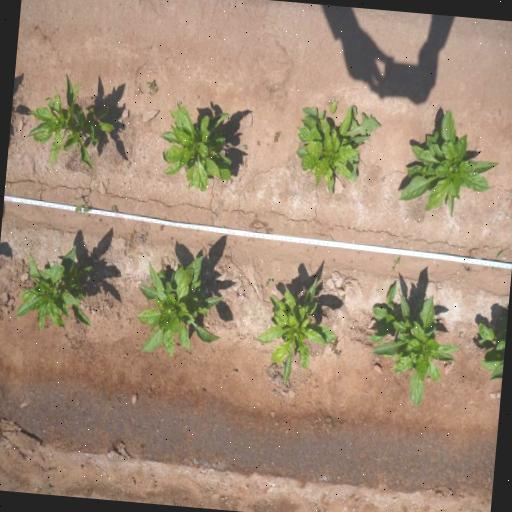plant: (359, 272, 468, 421), (396, 101, 509, 223), (132, 246, 232, 364), (20, 67, 120, 178), (11, 235, 104, 340), (260, 274, 334, 388), (159, 96, 237, 195), (292, 111, 352, 198), (471, 312, 508, 380)
weed: (347, 104, 381, 150), (328, 336, 346, 361), (73, 194, 92, 216), (146, 77, 162, 96), (491, 250, 504, 272), (327, 98, 339, 116), (391, 254, 402, 272), (273, 129, 281, 144), (265, 278, 274, 288), (110, 204, 119, 212), (380, 176, 386, 184), (159, 224, 165, 232), (256, 140, 262, 146), (242, 144, 248, 150), (375, 288, 380, 295)
